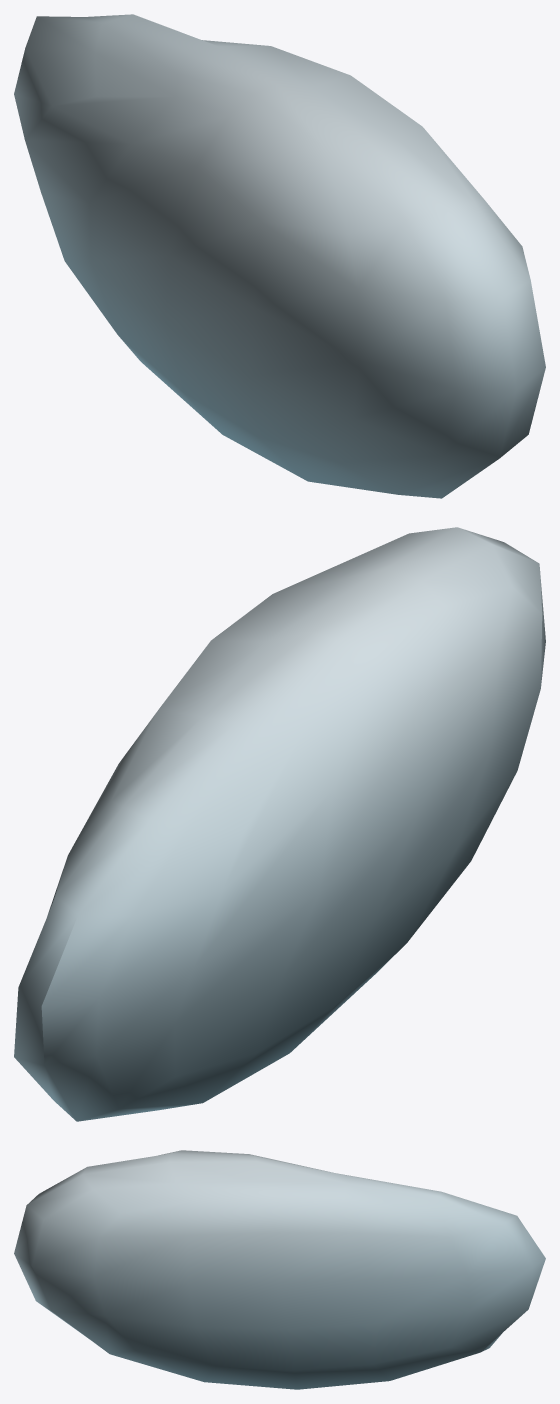
Rendered from Rock_02.fbx.
3 views of the same model, one above another, from view 1: azimuth 30°, elevation 25°; view 2: azimuth 150°, elevation 25°; view 3: azimuth 270°, elevation 25° (orthographic). The views are drawn at different scales.
Visible parts, largest first — view 1: RockMesh_02; view 2: RockMesh_02; view 3: RockMesh_02.
Boxes of the visible parts, left/top/right/bottom form: RockMesh_02: left=14, top=14, right=545, bottom=498; RockMesh_02: left=14, top=527, right=545, bottom=1121; RockMesh_02: left=14, top=1150, right=545, bottom=1389.
Size of the model in its own units: 9314 by 14832 by 32578.
